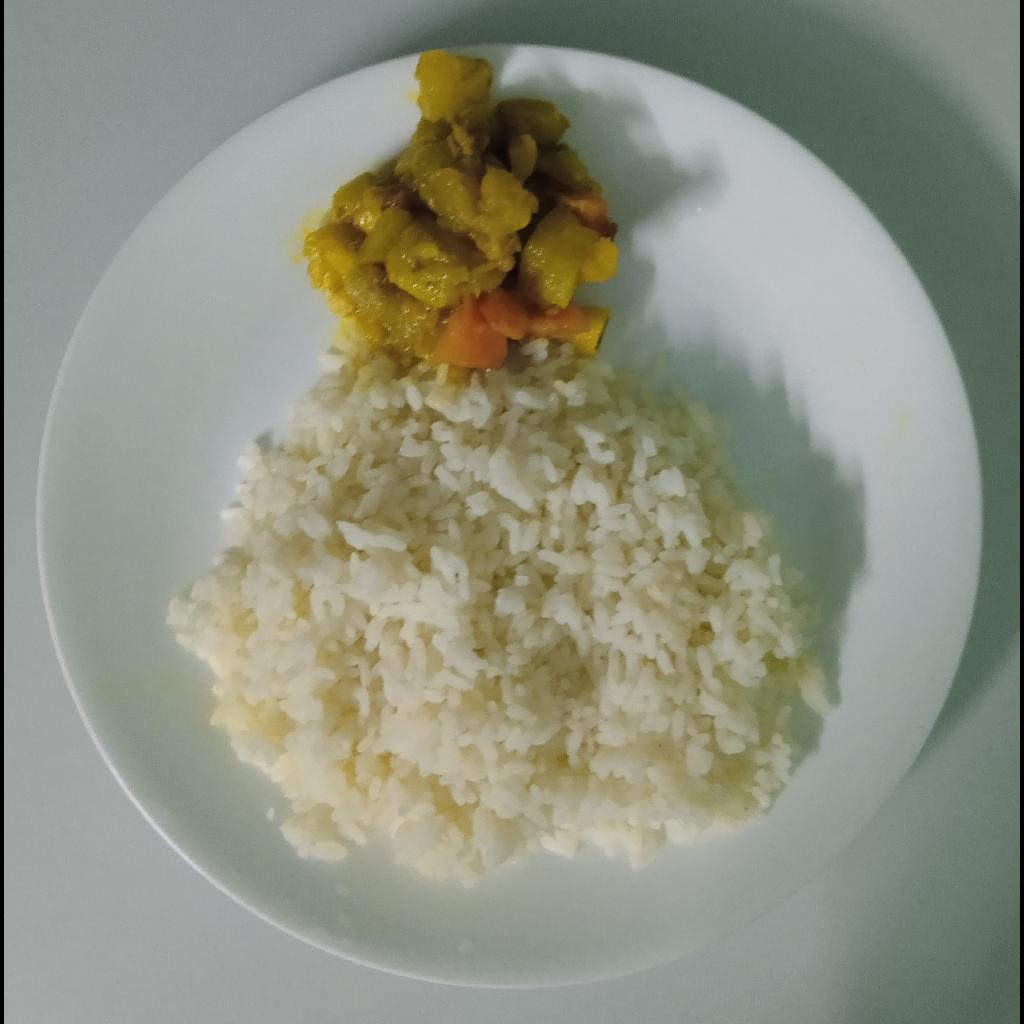rice: (168, 346, 833, 892)
vegetable: (309, 51, 622, 363)
